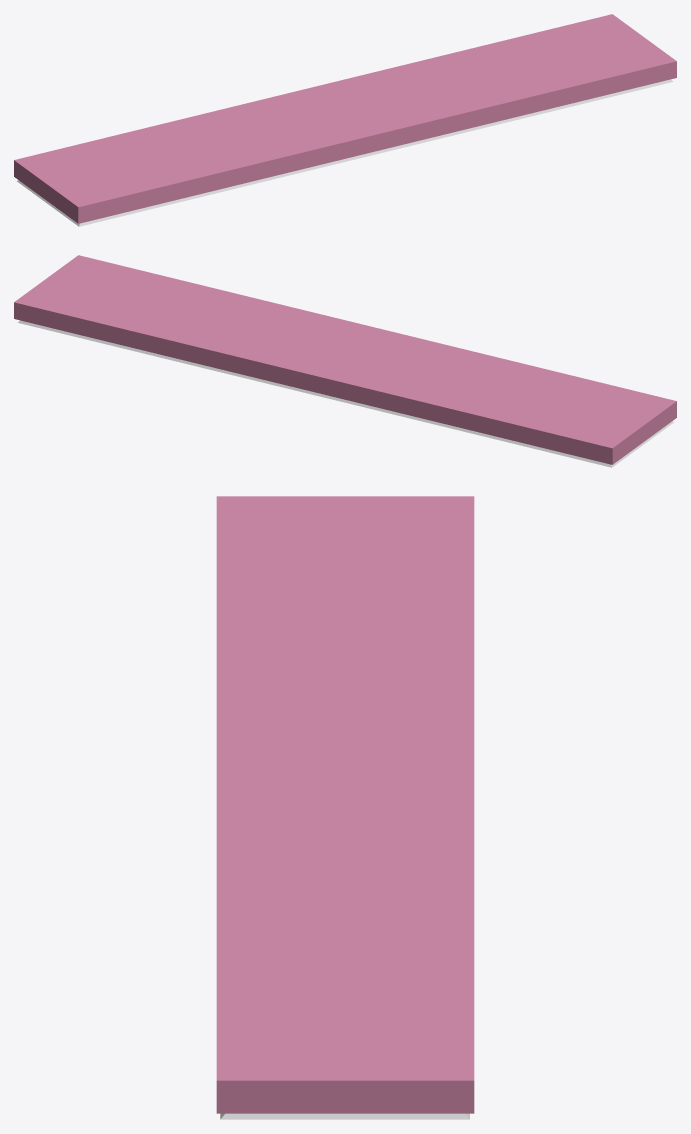
The model's file is race_curb_01_straight.dae.
3 renders of one model, top to bottom at view 1: azimuth 30°, elevation 25°; view 2: azimuth 150°, elevation 25°; view 3: azimuth 270°, elevation 25°, orthographic. The views are drawn at different scales.
Visible parts, largest first — view 1: Untitled, ind_bld_a240; view 2: Untitled, ind_bld_a240; view 3: Untitled, ind_bld_a240.
Boxes of the visible parts, <box> form: Untitled: <box>14,14,676,223</box>; ind_bld_a240: <box>17,79,673,226</box>; Untitled: <box>14,255,676,464</box>; ind_bld_a240: <box>17,320,674,467</box>; Untitled: <box>216,496,474,1113</box>; ind_bld_a240: <box>220,1113,469,1119</box>.
Bounding box in the file's own units: 8.86 × 1.65 × 0.2921.
